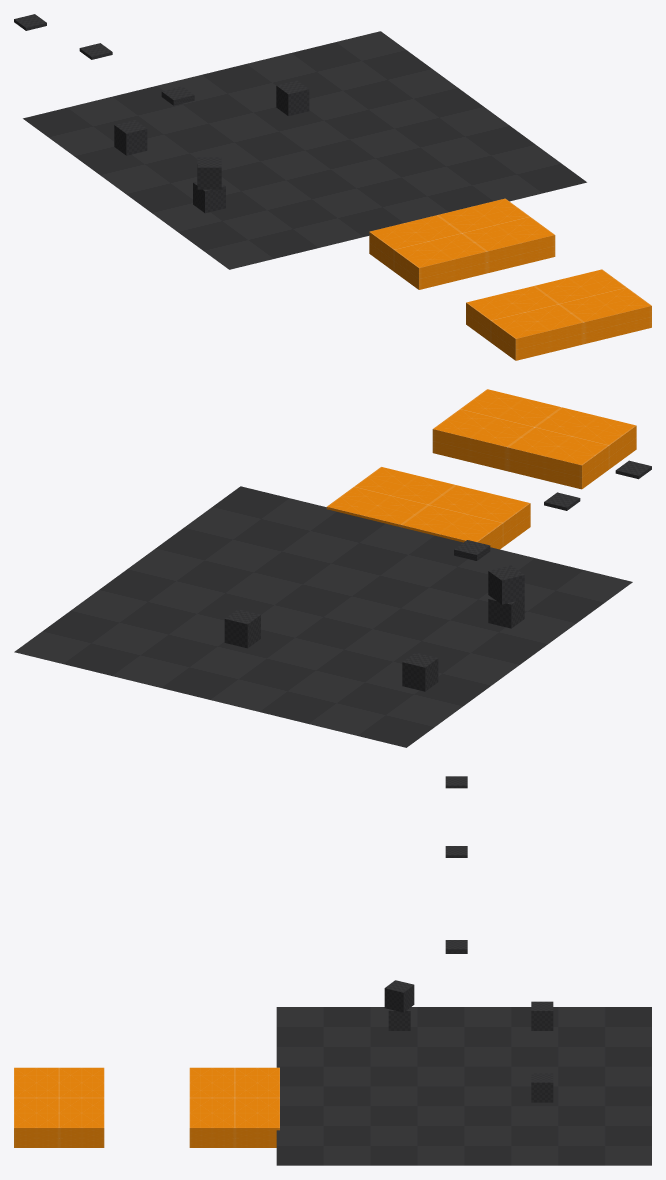
File: test-zone2.glb
3 views of the same model, one above another, from view 1: azimuth 30°, elevation 25°; view 2: azimuth 150°, elevation 25°; view 3: azimuth 270°, elevation 25° (orthographic). The views are drawn at different scales.
Visible parts, largest first — view 1: Plane, Cube.007, Cube.008, Cube, Cube.001, Cube.006, Cube.005; view 2: Plane, Cube.008, Cube.007, Cube.006, Cube, Cube.001, Cube.005, Cube.002; view 3: Plane, Cube.008, Cube.007, Cube.006, Cube, Cube.001.
Part boxes in pixels (<box>): Plane: <box>23,31,586,269</box>; Cube.007: <box>369,198,555,289</box>; Cube.008: <box>466,269,651,360</box>; Cube: <box>276,80,309,116</box>; Cube.001: <box>114,120,147,155</box>; Cube.006: <box>197,157,221,189</box>; Cube.005: <box>193,181,225,213</box>; Plane: <box>14,486,632,747</box>; Cube.008: <box>432,389,636,489</box>; Cube.007: <box>326,466,530,549</box>; Cube.006: <box>488,565,524,604</box>; Cube: <box>224,609,260,648</box>; Cube.001: <box>402,652,438,691</box>; Cube.005: <box>488,597,524,628</box>; Cube.002: <box>454,540,490,560</box>; Plane: <box>276,1007,651,1165</box>; Cube.008: <box>14,1067,104,1147</box>; Cube.007: <box>189,1067,279,1147</box>; Cube.006: <box>384,980,414,1012</box>; Cube: <box>531,1073,553,1102</box>; Cube.001: <box>531,1001,553,1030</box>.
Bounding box in the file's own units: 44.7 × 20.09 × 58.12.
Materials: 2 (2 with a texture image).
